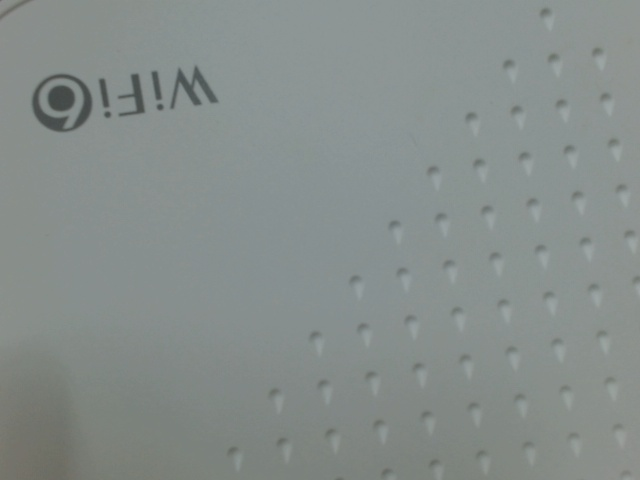AK_ZTEWIFI6: (25, 60, 226, 139)
